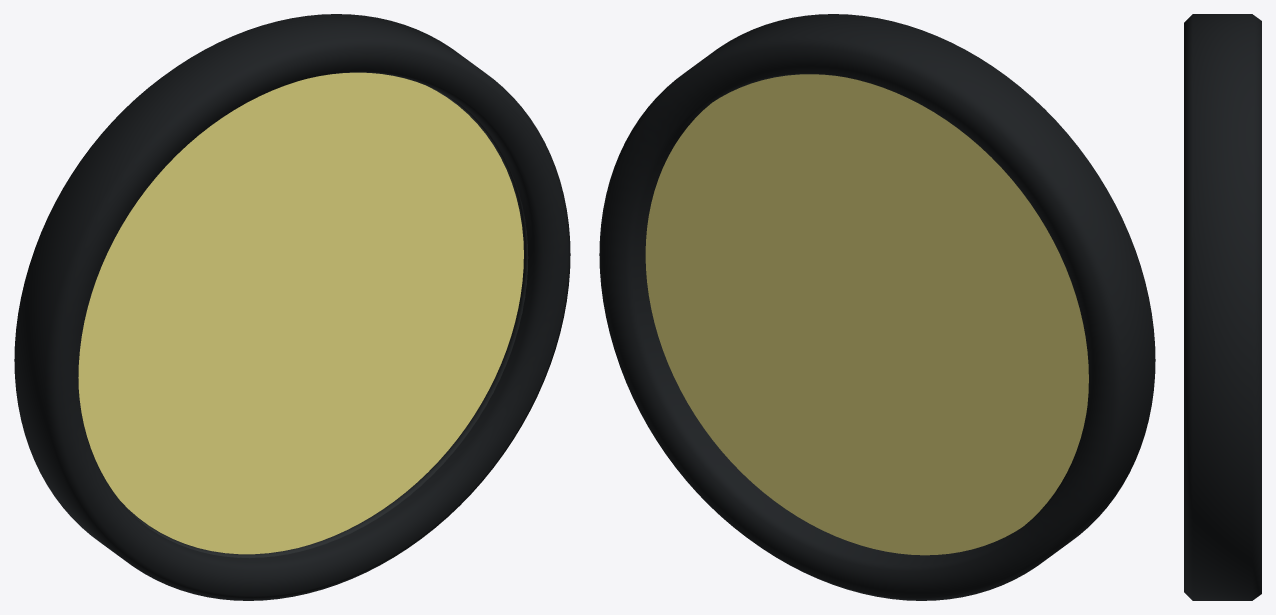
Rendered from filter_yellow.glb.
3 views of the same model, side by side, from view 1: azimuth 30°, elevation 25°; view 2: azimuth 150°, elevation 25°; view 3: azimuth 270°, elevation 25° (orthographic). The views are drawn at different scales.
Visible parts, largest first — view 1: Filter_Yellow_OpticalElement, Filter_Yellow_Frame, Filter_Yellow_RetainingRim; view 2: Filter_Yellow_OpticalElement, Filter_Yellow_Frame; view 3: Filter_Yellow_Frame.
Boxes of the visible parts, box(x1,y1,x2,y2) form: Filter_Yellow_OpticalElement: box(78, 72, 523, 554); Filter_Yellow_Frame: box(14, 14, 570, 600); Filter_Yellow_RetainingRim: box(121, 85, 528, 558); Filter_Yellow_OpticalElement: box(645, 74, 1088, 555); Filter_Yellow_Frame: box(599, 14, 1155, 600); Filter_Yellow_Frame: box(1184, 14, 1261, 600).
Bounding box in the file's own units: 0.068 × 0.068 × 0.009.
